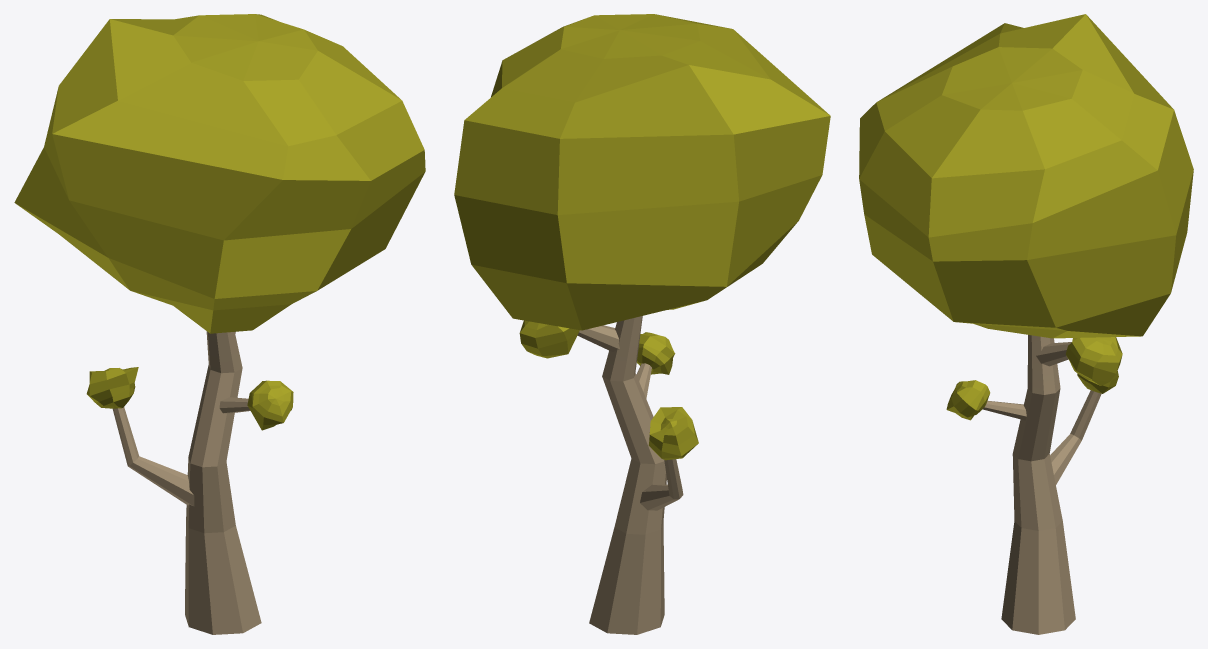
Rendered from arbol1.fbx.
3 renders of one model, left to right at view 1: azimuth 30°, elevation 25°; view 2: azimuth 150°, elevation 25°; view 3: azimuth 270°, elevation 25°, orthographic. The views are drawn at different scales.
Visible parts, largest first — view 1: polySurface6; view 2: polySurface6; view 3: polySurface6.
Boxes of the visible parts, <box> form: polySurface6: <box>14,14,425,634</box>; polySurface6: <box>454,14,830,634</box>; polySurface6: <box>859,14,1193,634</box>.
Size of the model in its own units: 0.1094 by 0.1869 by 0.1004.
